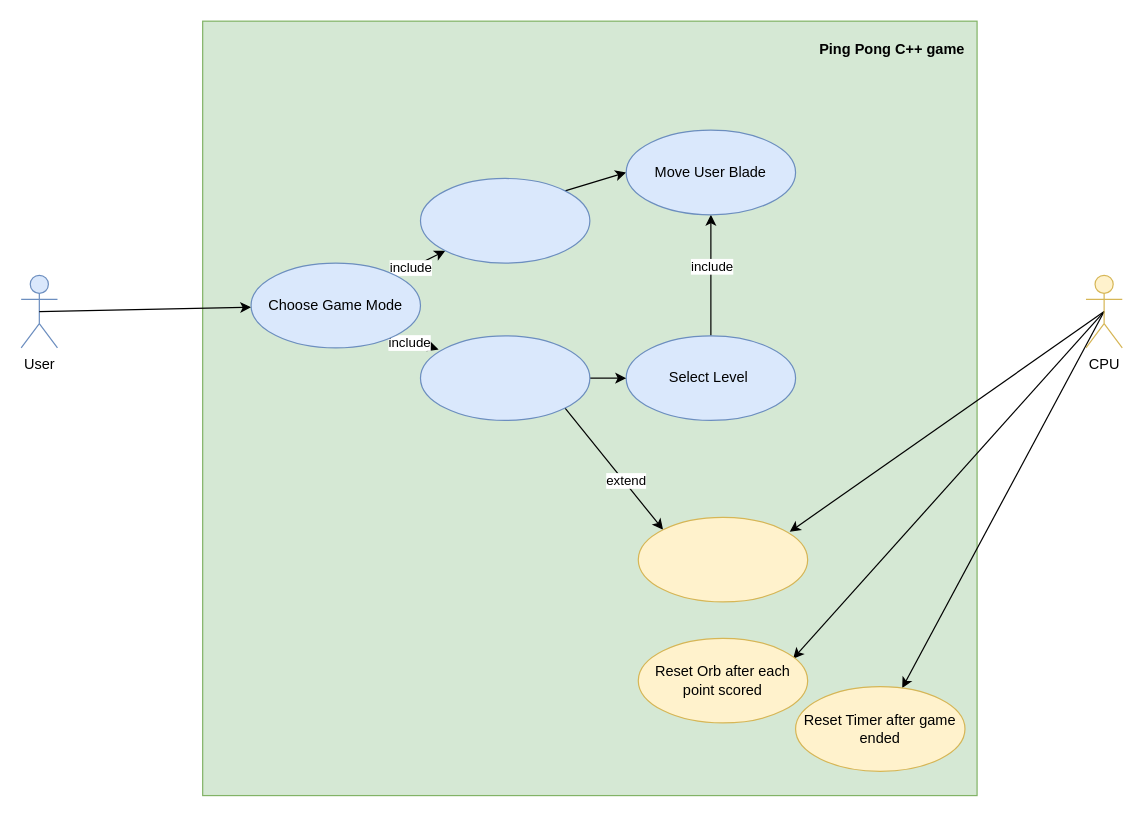
This 1143x817 diagram has some shape labels left out. Here are the shapes that lost their labels. From the top down, the centre of each, then its label:
At [504,220]: "UserA play VS UserB".
At [504,377]: "UserA play VS CPU".
At [722,559]: "Move CPU Blade".
